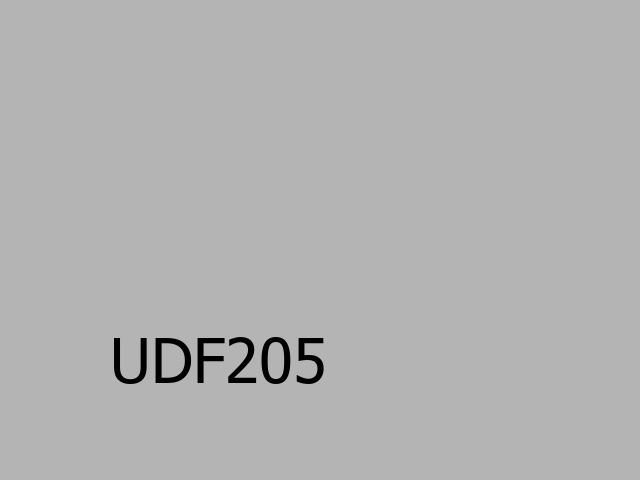OCR_AREA: (106, 333, 331, 388)
